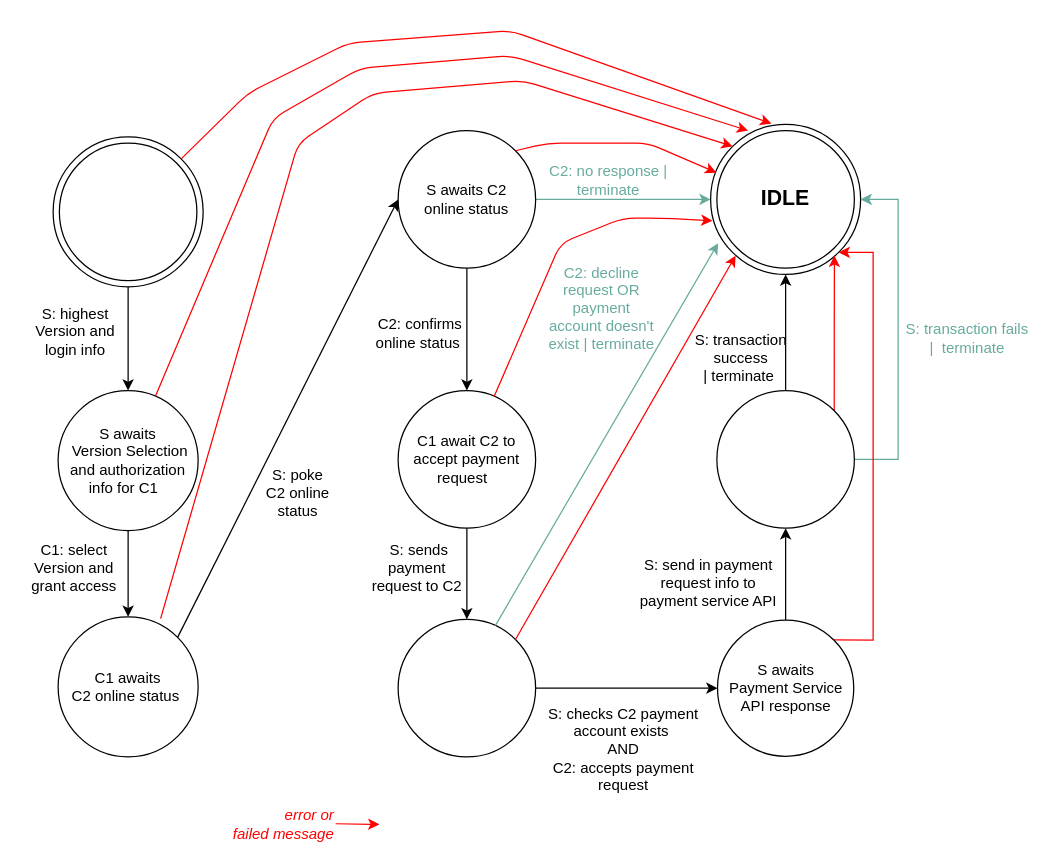
This 1056x865 diagram has some shape labels left out. Here are the shapes that lost their labels. From the top down, the box of each, then its label:
(58, 142, 197, 281): C1 awaits for Version and authentication
(716, 389, 854, 528): C1 awaits payment transaction completed
(397, 618, 536, 757): S awaits C2 to accept payment request and check payment account exist
